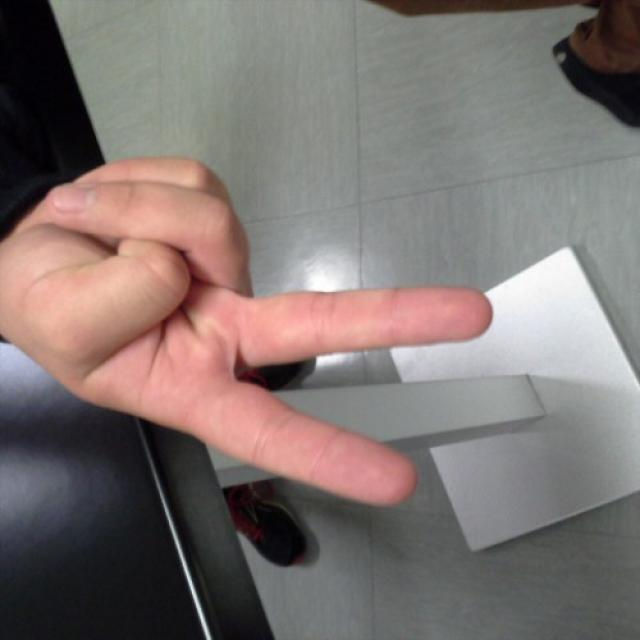scissors: (111, 162, 496, 510)
